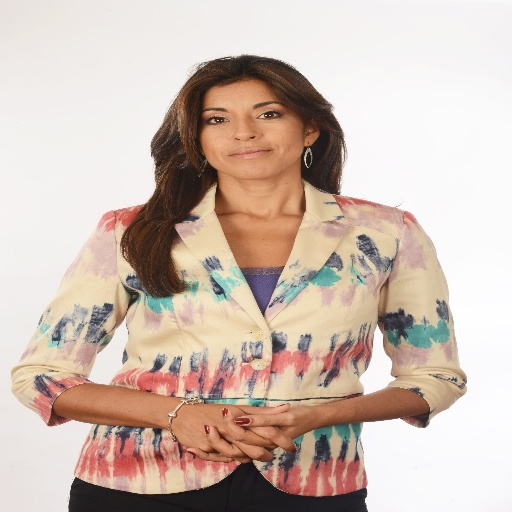hand: (184, 405, 315, 464)
